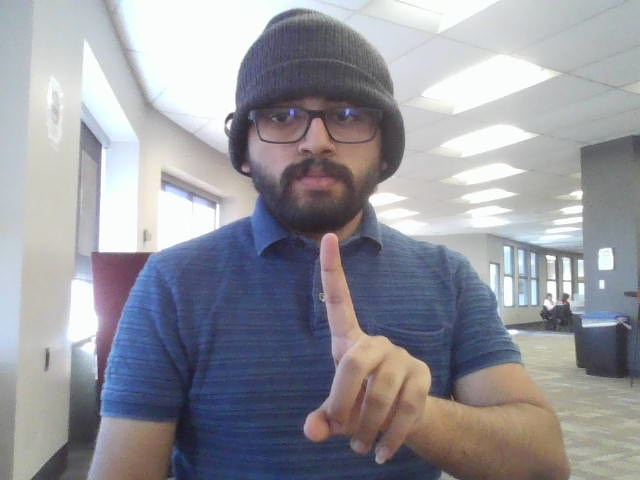one: (281, 227, 444, 472)
